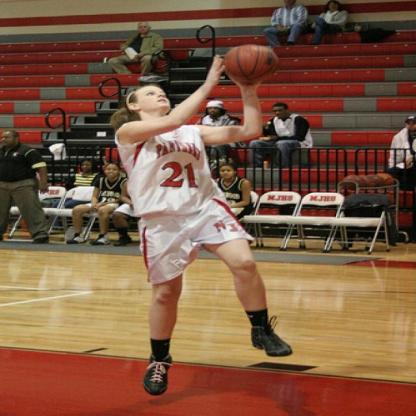basketball: (225, 42, 279, 80)
